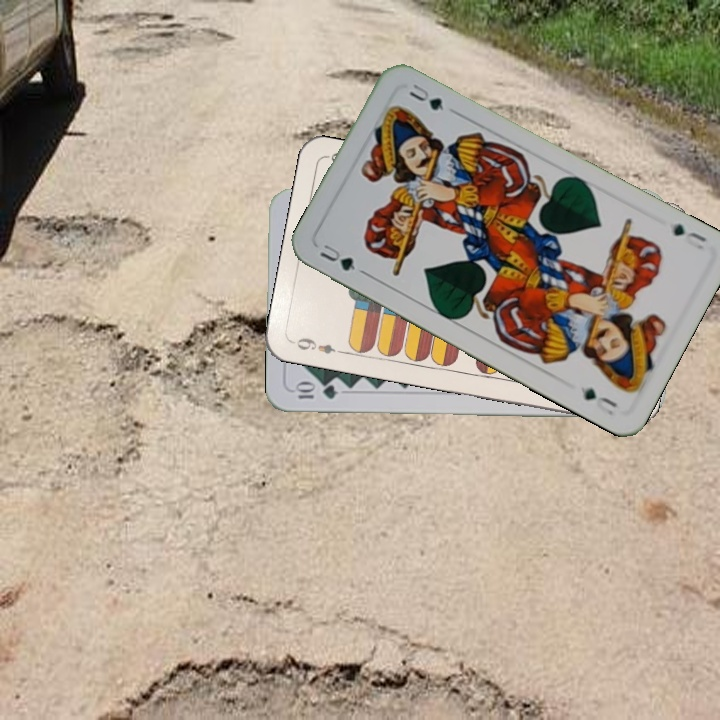E9: (289, 333, 347, 357)
G10: (290, 381, 339, 401)
GU: (315, 240, 358, 274), (669, 219, 709, 253)
